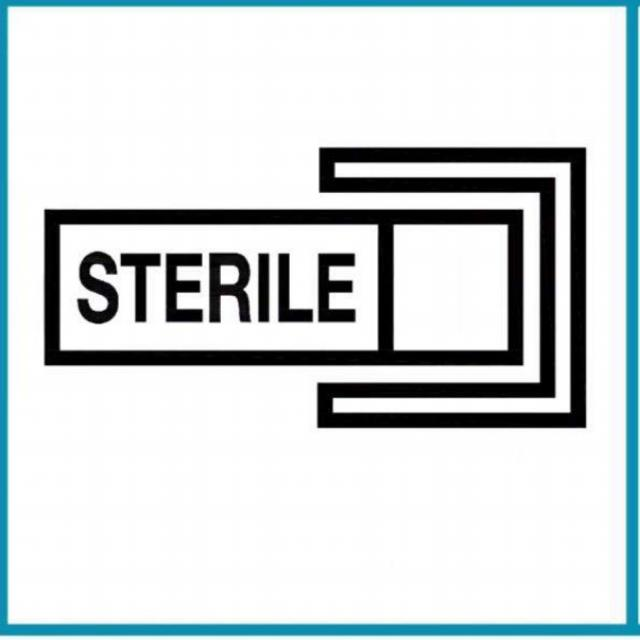Sterile Fluid Path: (45, 144, 588, 432)
